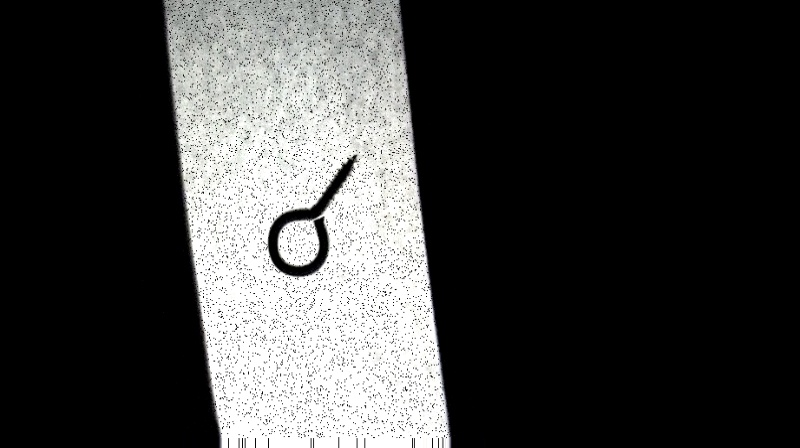O001: (264, 149, 362, 280)
